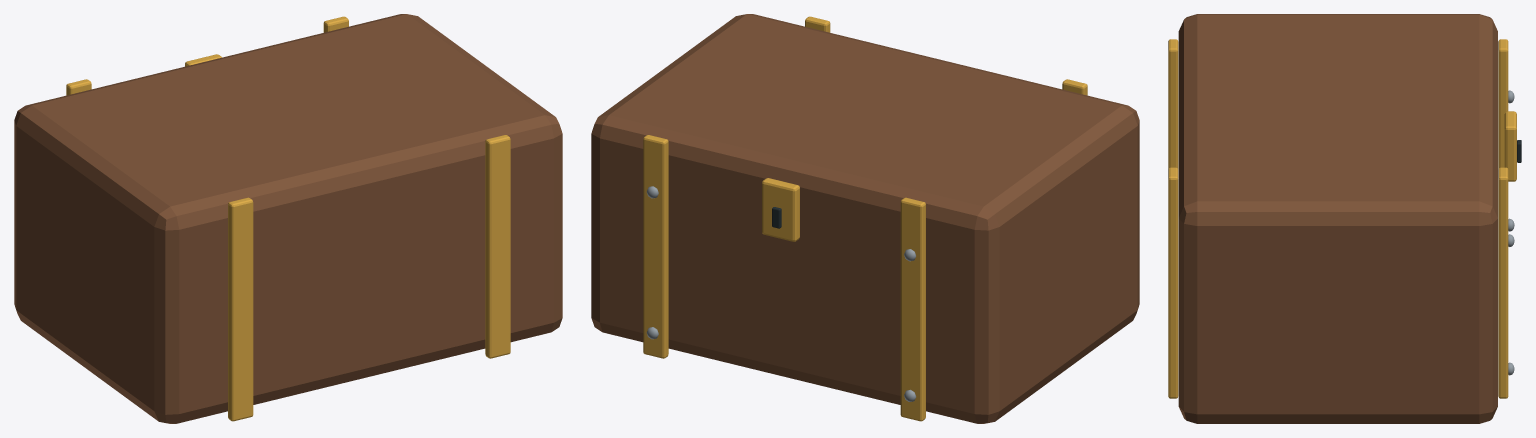
Rendered from ChestBase.glb.
3 views of the same model, side by side, from view 1: azimuth 30°, elevation 25°; view 2: azimuth 150°, elevation 25°; view 3: azimuth 270°, elevation 25° (orthographic). The views are drawn at different scales.
Visible parts, largest first — view 1: ChestBase; view 2: ChestBase; view 3: ChestBase.
Boxes of the visible parts, x1,y1,x2,y2 form: ChestBase: (14, 14, 562, 423); ChestBase: (591, 14, 1139, 423); ChestBase: (1168, 14, 1521, 423).
Size of the model in its own units: 0.9 by 0.46 by 0.664.
